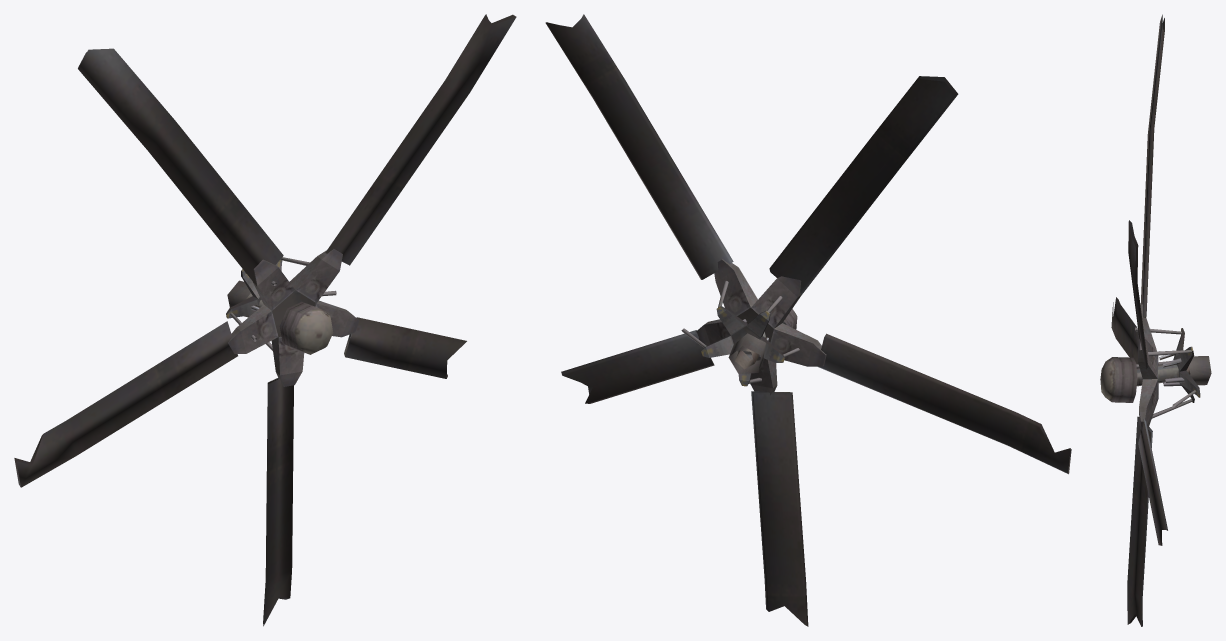
The model's file is vehicle_mi24p_hind_desert_d_piece02_LOD0.obj.
The picture shows the model from 3 angles, left to right: view 1: azimuth 30°, elevation 25°; view 2: azimuth 150°, elevation 25°; view 3: azimuth 270°, elevation 25°; orthographic projection. The views are drawn at different scales.
Parts seen in each view (by area): view 1: mtl_mi24p_hind_desert; view 2: mtl_mi24p_hind_desert; view 3: mtl_mi24p_hind_desert.
Part boxes in pixels (left/top/right/bottom): mtl_mi24p_hind_desert: left=14, top=14, right=516, bottom=626; mtl_mi24p_hind_desert: left=545, top=14, right=1071, bottom=626; mtl_mi24p_hind_desert: left=1100, top=14, right=1211, bottom=626.
Size of the model in its own units: 518 by 580 by 108.
